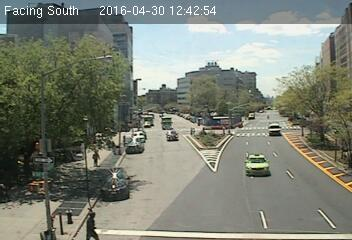neg: (24, 112, 51, 148), (206, 158, 226, 185), (251, 98, 271, 124), (101, 64, 121, 90), (148, 58, 167, 83), (201, 122, 220, 146), (279, 93, 297, 117), (74, 93, 92, 117), (103, 163, 121, 187), (201, 60, 219, 83), (238, 191, 255, 214), (250, 156, 267, 178), (150, 125, 166, 147), (29, 161, 45, 183), (163, 184, 179, 206), (120, 127, 136, 148), (24, 193, 38, 211)
pos: (82, 208, 104, 237), (87, 146, 104, 168)
